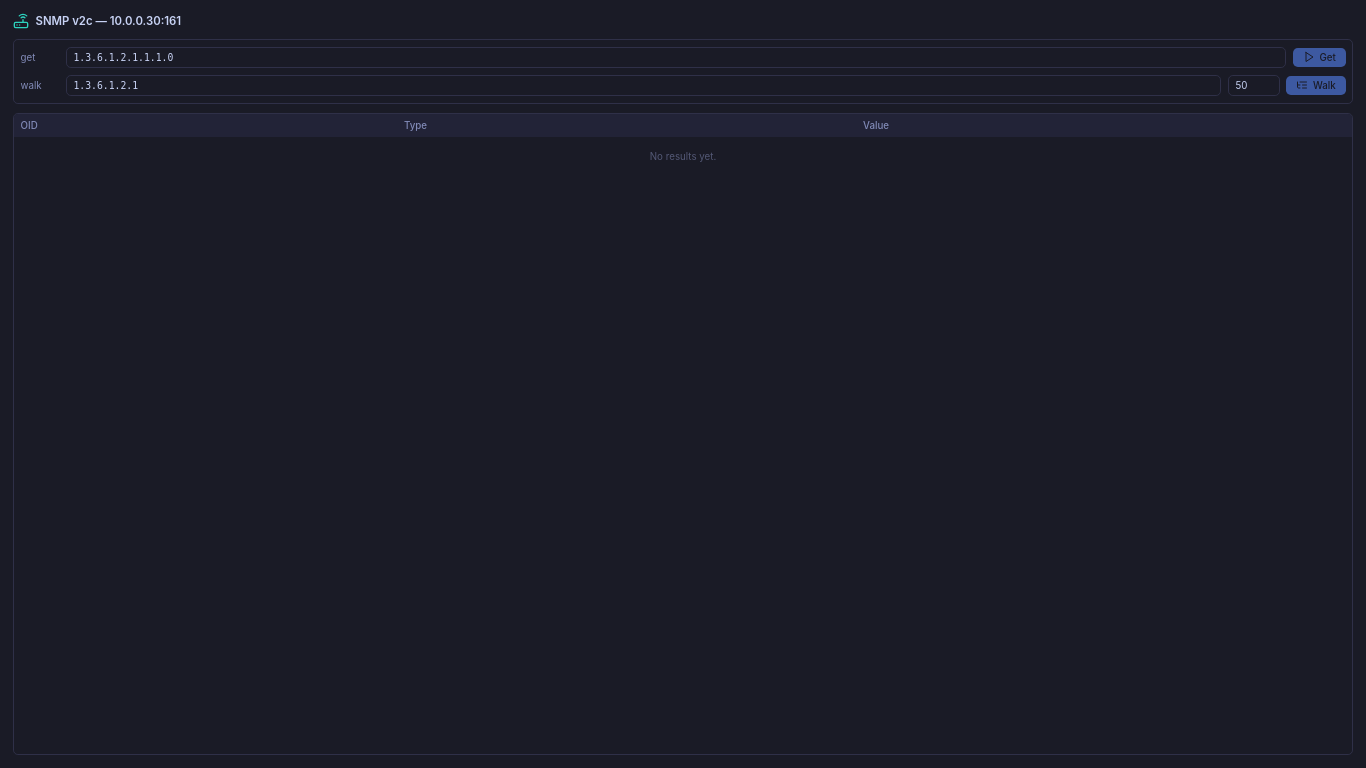
Test: SnmpBrowser › shows an error toast when GET fails
The image size is (1366, 768).
Check: the heading "SNMP v2c — 10.0.0.30:161" is shown, box [13,13,181,29]
Click the button "Get" at (1319, 57), box [1293,48,1346,67]
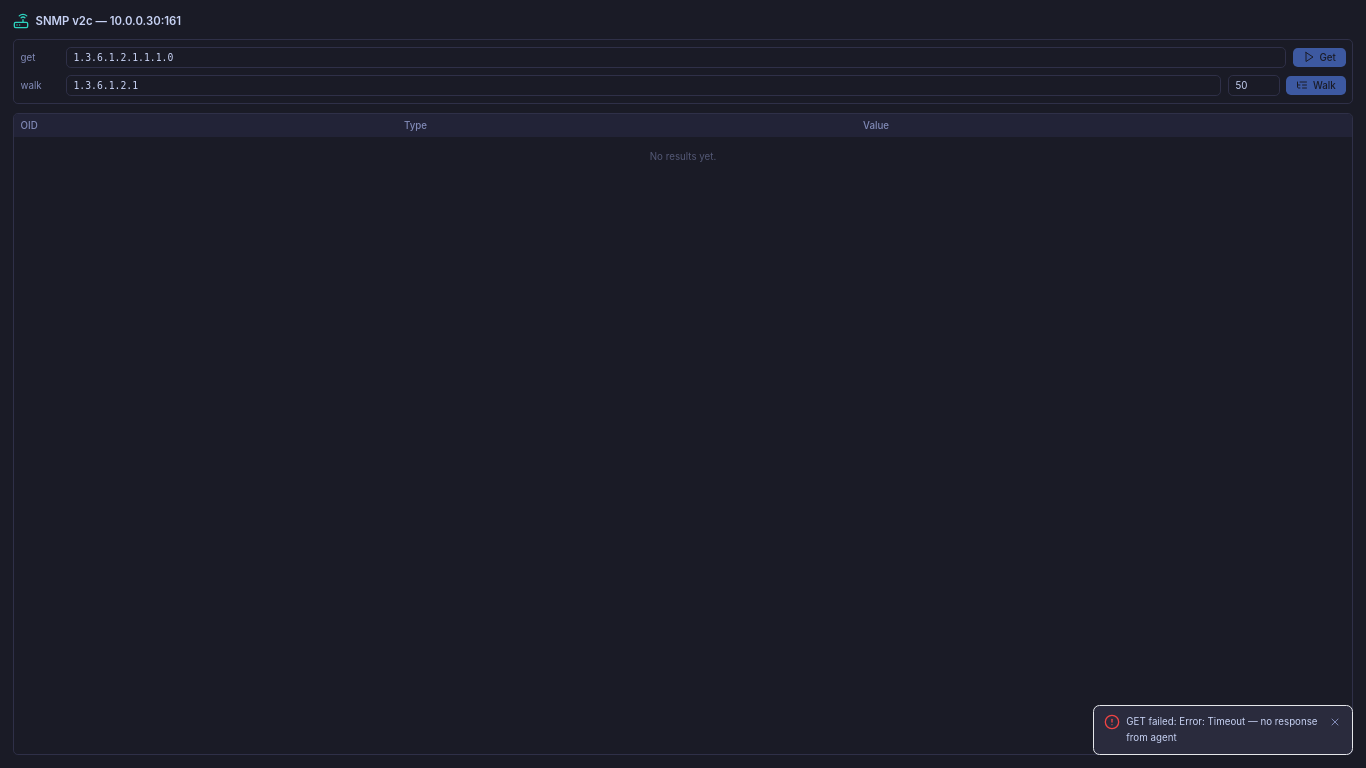
Check: the text "GET failed: Error: Timeout — no response from agent" is shown, box [1126,714,1321,746]
